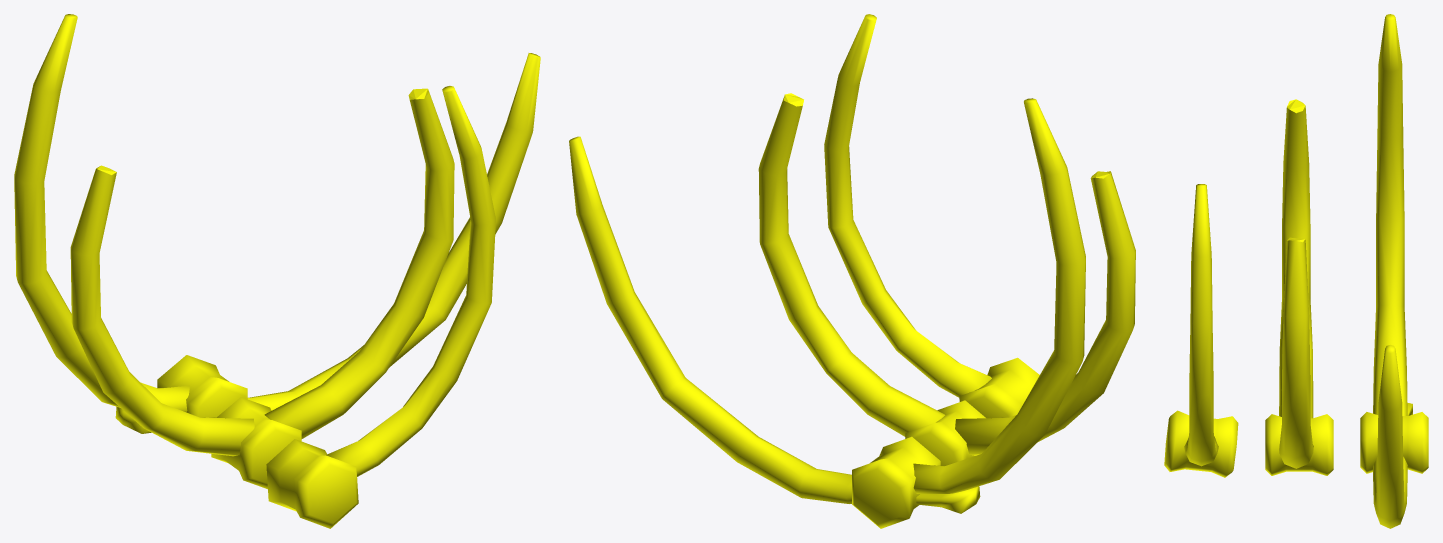
Rendered from bone_whale_piece_rib02.glb.
3 renders of one model, left to right at view 1: azimuth 30°, elevation 25°; view 2: azimuth 150°, elevation 25°; view 3: azimuth 270°, elevation 25°, orthographic. The views are drawn at different scales.
Parts seen in each view (by area): view 1: bone_whale_piece_rib02; view 2: bone_whale_piece_rib02; view 3: bone_whale_piece_rib02.
Boxes of the visible parts, x1,y1,x2,y2 form: bone_whale_piece_rib02: [14, 14, 540, 528]; bone_whale_piece_rib02: [569, 14, 1135, 528]; bone_whale_piece_rib02: [1164, 14, 1428, 528].
Bounding box in the file's own units: 17.55 × 14.73 × 8.73.
Materials: 1 (1 with a texture image).
